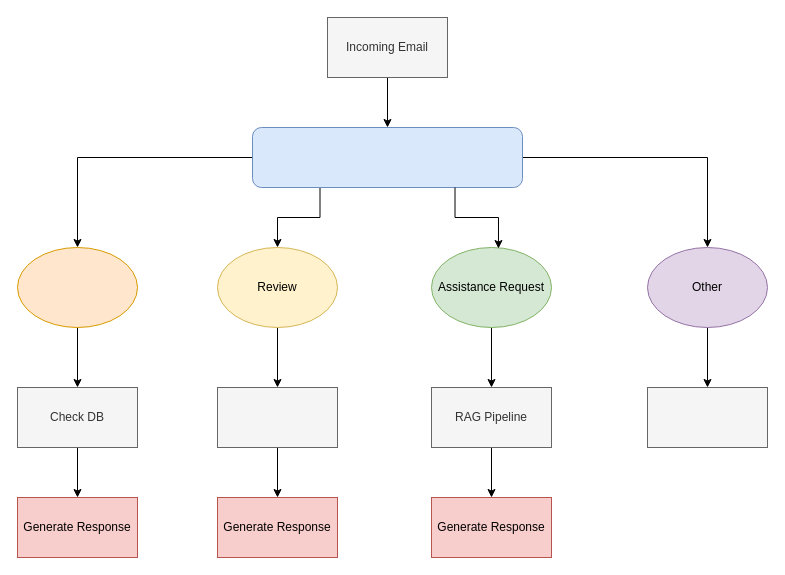
Some shapes in this 785 by 575 pixel diagram are drawn without their labels. Here are the shapes that lost their labels. From the top down, the box of each, then its label:
(252, 126, 522, 188): Email Classification
(16, 246, 138, 328): Inquiry
(216, 386, 338, 448): Sentiment analysis
(646, 386, 768, 448): Forward to Customer Service
